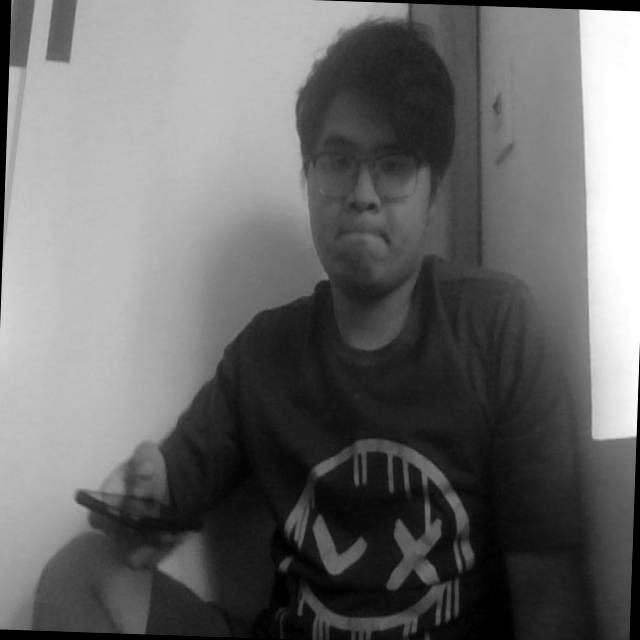phone: (59, 468, 178, 558)
